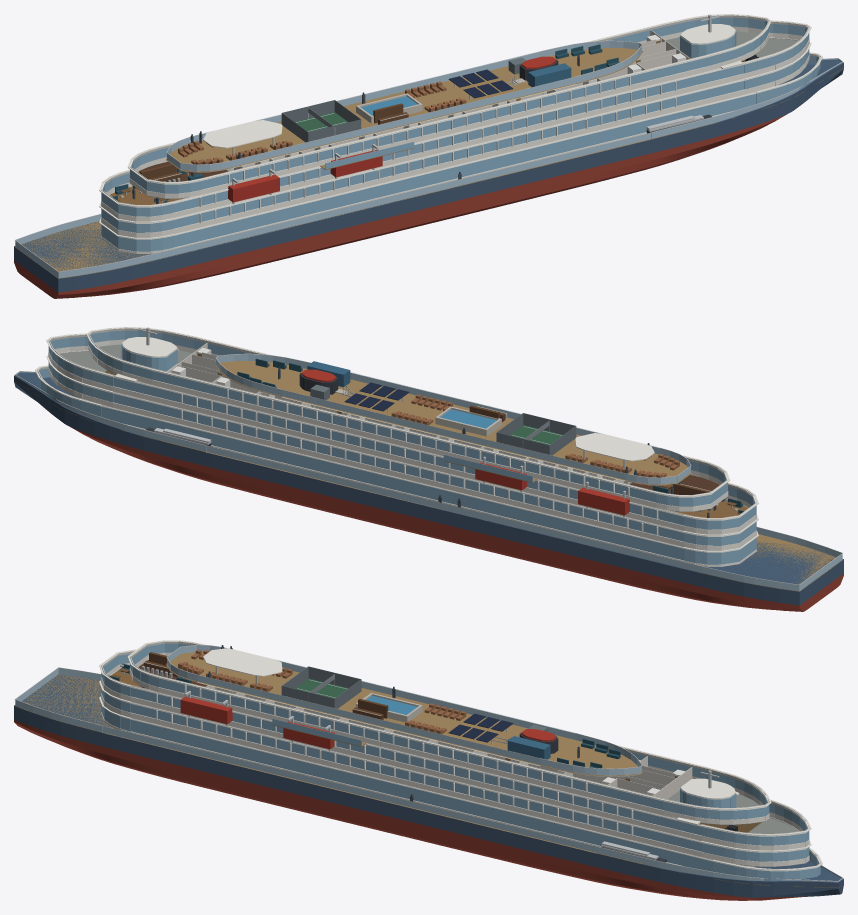
The model's file is vessel_walk.glb.
3 renders of one model, top to bottom at view 1: azimuth 30°, elevation 25°; view 2: azimuth 150°, elevation 25°; view 3: azimuth 330°, elevation 25°, orthographic.
Parts seen in each view (by area): view 1: vessel_walk (×18); view 2: vessel_walk (×19); view 3: vessel_walk (×18).
Part boxes in pixels (x1,y1,x2,y2): vessel_walk (×18): [14, 14, 843, 298]; vessel_walk (×19): [14, 327, 843, 611]; vessel_walk (×18): [14, 640, 843, 900].
Bounding box in the file's own units: 141 × 19.42 × 16.8.
